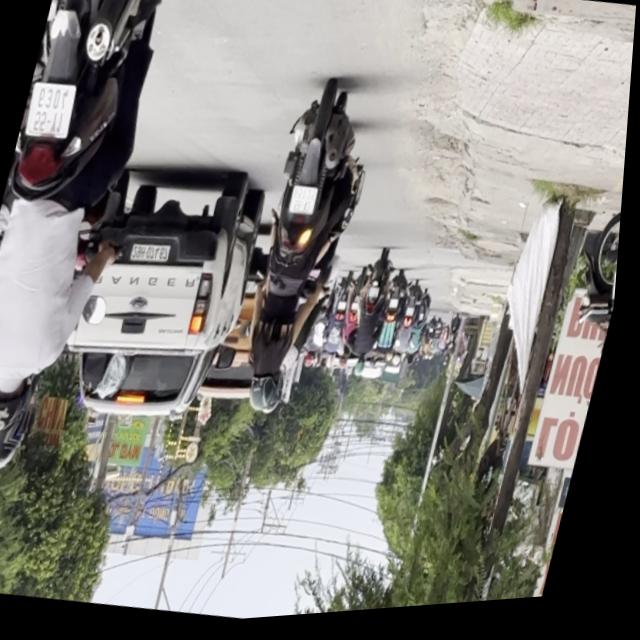helmet: (0, 370, 44, 478), (248, 373, 281, 419)
licenseplate: (0, 0, 186, 489), (221, 78, 386, 433)
nohelmet: (22, 80, 79, 142), (289, 185, 322, 221)
